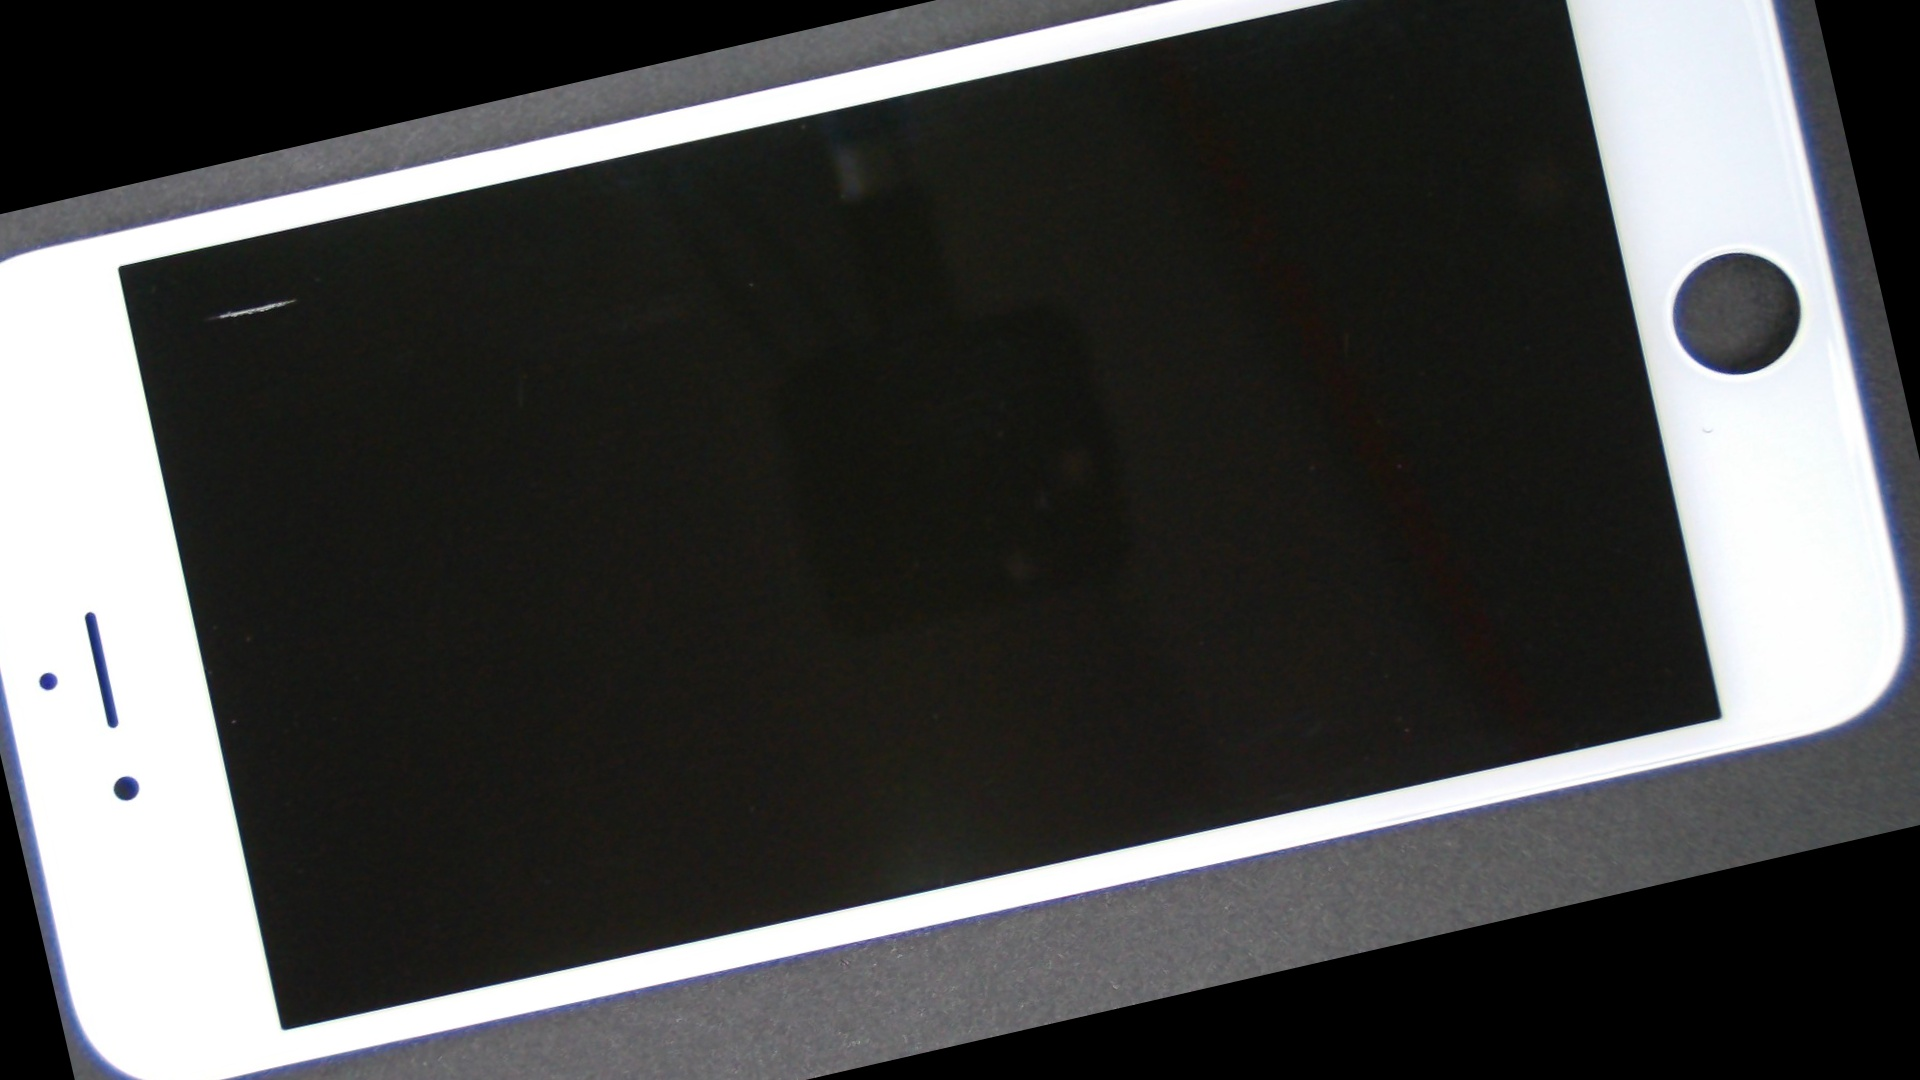oil: (54, 206, 394, 419)
